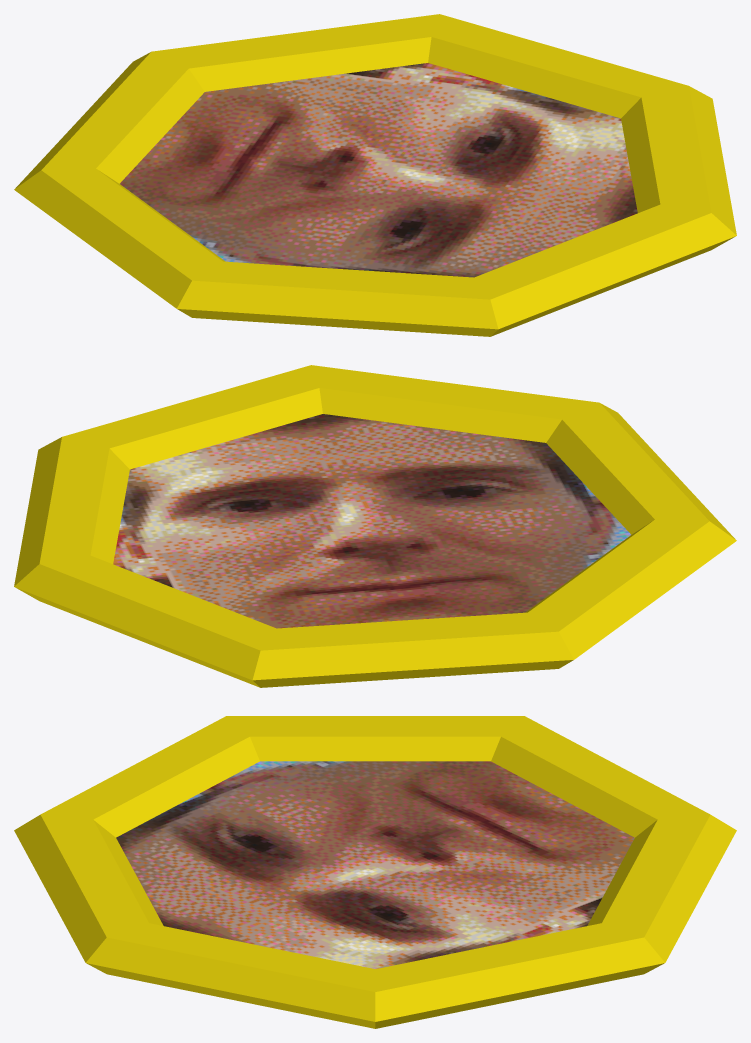
The picture shows the model from 3 angles, top to bottom: view 1: azimuth 30°, elevation 25°; view 2: azimuth 150°, elevation 25°; view 3: azimuth 270°, elevation 25°; orthographic projection.
Visible parts, largest first — view 1: Torus.001; view 2: Torus.001; view 3: Torus.001.
Part boxes in pixels (x1,y1,x2,y2): Torus.001: (14, 14, 736, 336); Torus.001: (14, 365, 736, 687); Torus.001: (14, 716, 736, 1028).
Size of the model in its own units: 6.5 by 0.3752 by 6.67.
Materials: 2 (1 with a texture image).
